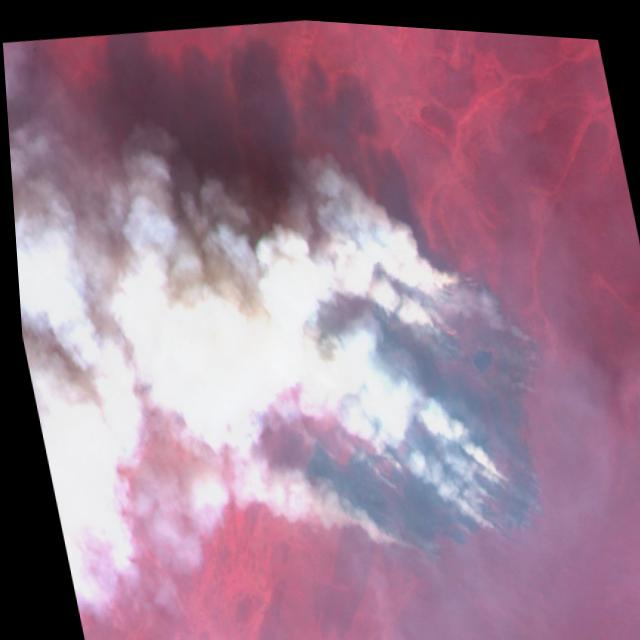fire: (243, 220, 585, 582)
